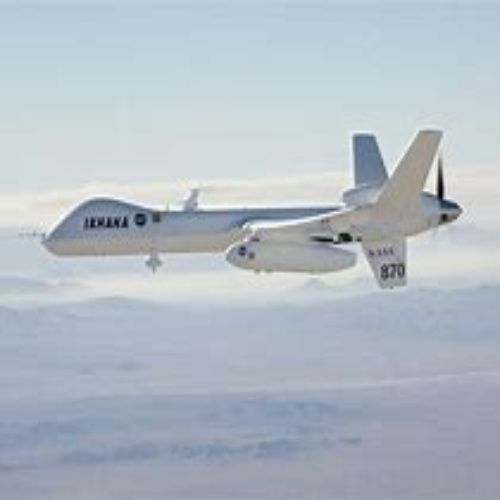uav: (32, 128, 464, 300)
